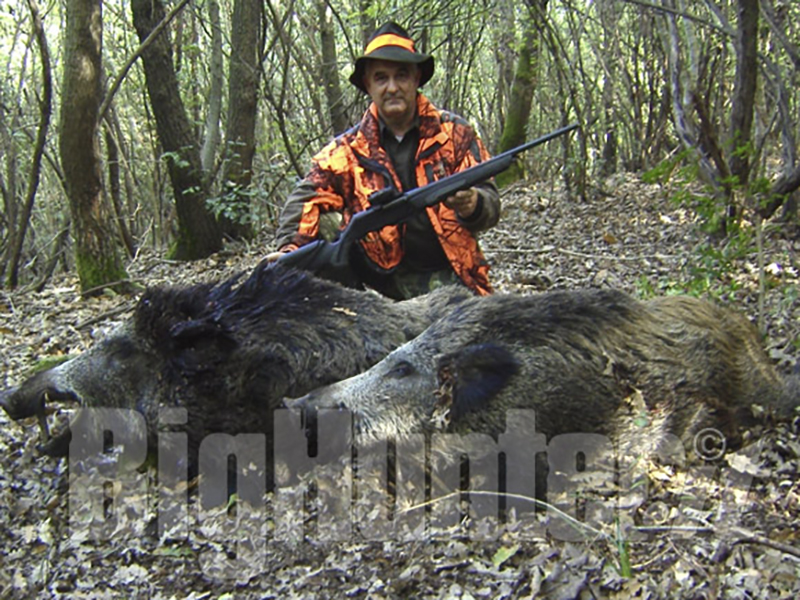cacciatore: (283, 21, 509, 293)
cinghiale: (290, 284, 767, 409), (9, 271, 306, 414)
fucile: (285, 116, 590, 257)
